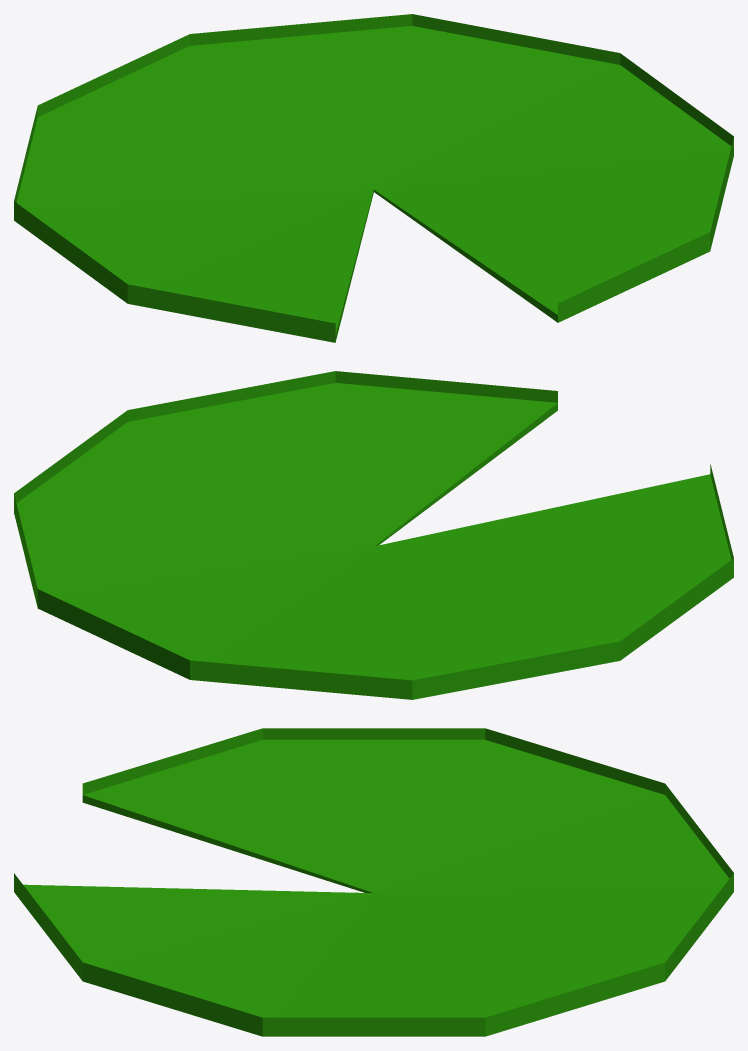
The model's file is water2.fbx.
The picture shows the model from 3 angles, top to bottom: view 1: azimuth 30°, elevation 25°; view 2: azimuth 150°, elevation 25°; view 3: azimuth 270°, elevation 25°; orthographic projection. The views are drawn at different scales.
Visible parts, largest first — view 1: Sphere; view 2: Sphere; view 3: Sphere.
Boxes of the visible parts, box(x1,y1,x2,y2) form: Sphere: box(14, 14, 733, 342); Sphere: box(14, 371, 733, 699); Sphere: box(14, 728, 733, 1036).
Size of the model in its own units: 1104 by 40.73 by 1161.
